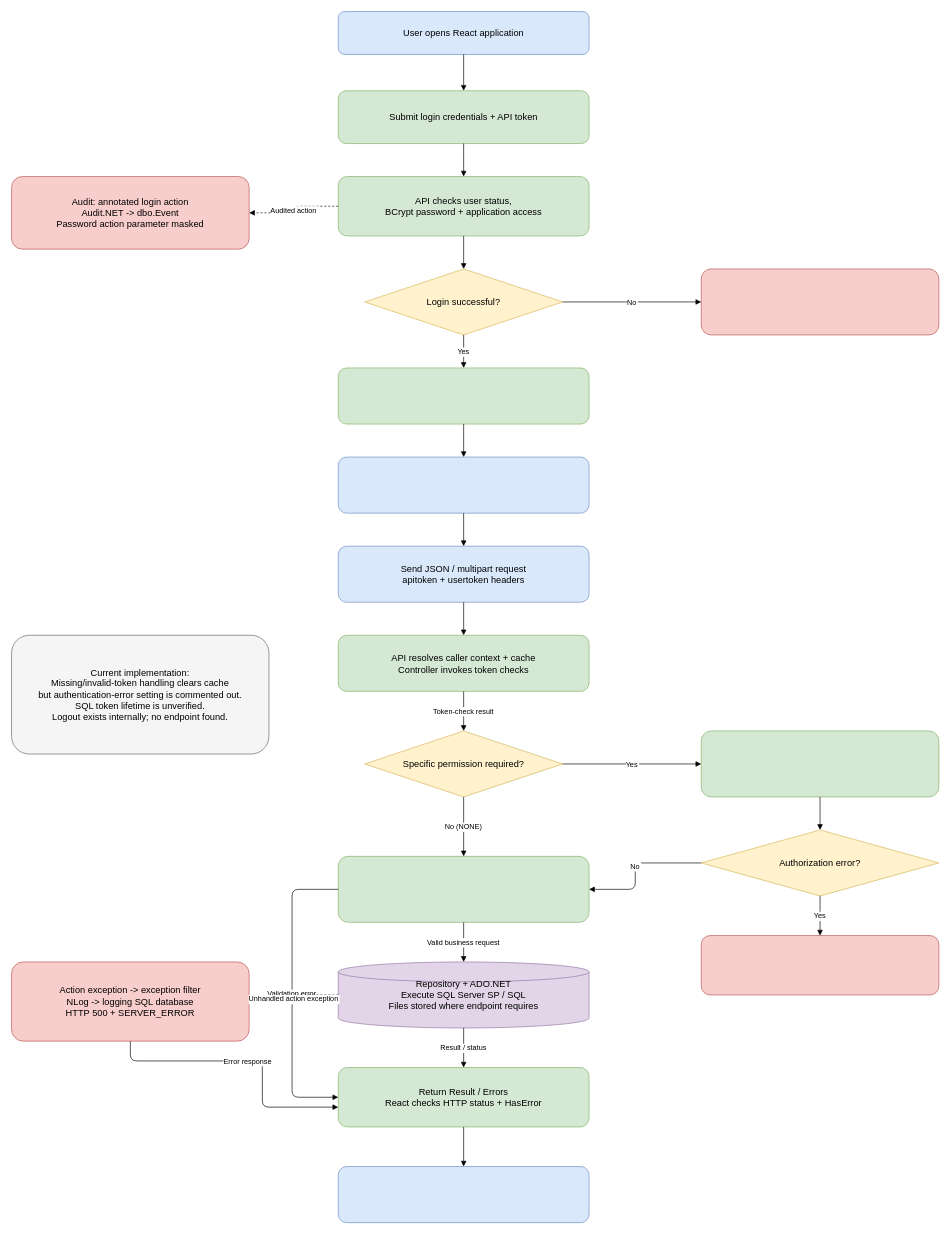
This 950x1234 diagram has some shape labels left out. Each missing label, with the centre of its shape:
"Check cached PermissionID Return authorization result" belongs at [820,763].
"Generate custom user token Persist token in SQL Server" belongs at [463,395].
"Provider validates business input Controller handles validation errors" belongs at [463,889].
"React displays outcome Refresh affected records on success" belongs at [463,1194].
"React retains session (proposed) User selects a business action" belongs at [463,484].
"Return access-denied response React displays error" belongs at [820,965].
"Return login error React stays on login screen" belongs at [820,301].
